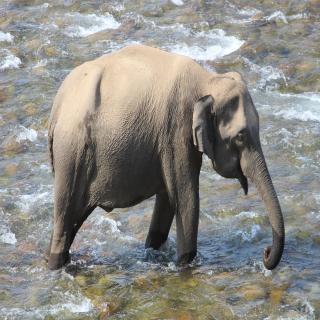Elephant: (44, 35, 285, 275)
